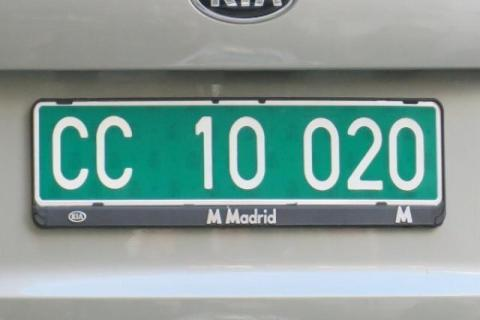LicensePlate: (23, 78, 458, 245)
